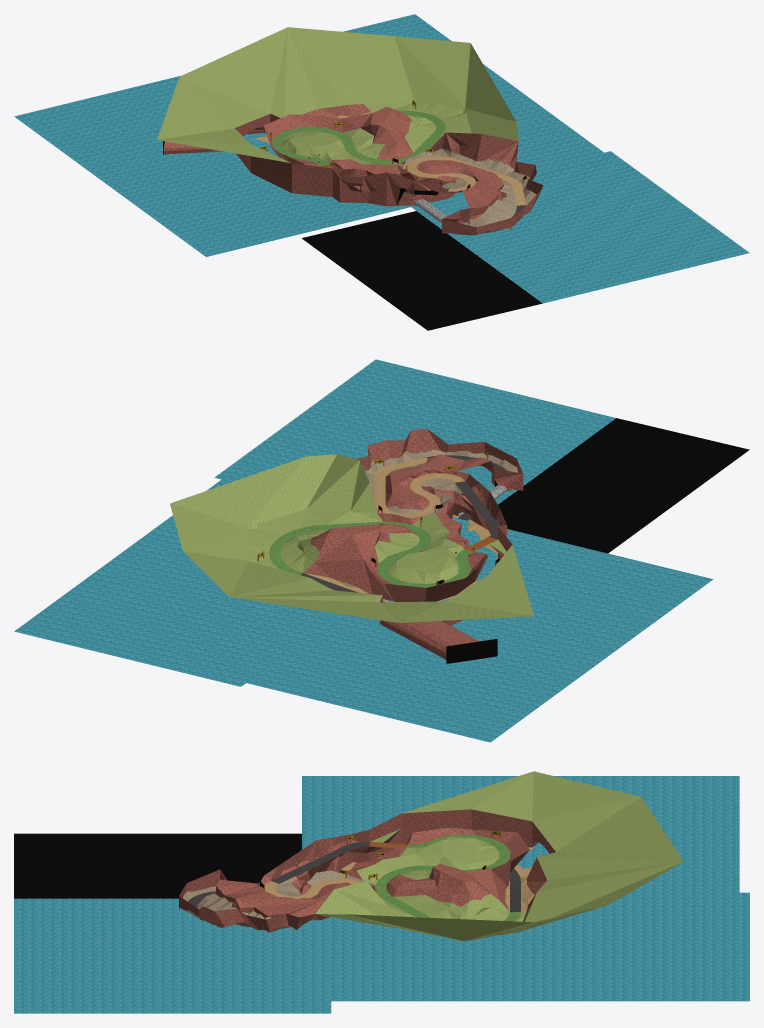
3 views of the same model, one above another, from view 1: azimuth 30°, elevation 25°; view 2: azimuth 150°, elevation 25°; view 3: azimuth 270°, elevation 25° (orthographic). The views are drawn at different scales.
Visible parts, largest first — view 1: Wheev4-SKP--Water_Pool.001, Wheev4-SKP--Vegetation_Grass1.001, Wheev4-SKP--Groundcover_Brick_Crushed.001, Wheev4-SKP--Default_Material.001, Wheev4-SKP--Groundcover_Gravel_1inch.001, Wheev4-SKP--Vegetation_Grass_Artificial.001, Wheev4-SKP--Groundcover_Sand_Smooth.001; view 2: Wheev4-SKP--Water_Pool.001, Wheev4-SKP--Vegetation_Grass1.001, Wheev4-SKP--Default_Material.001, Wheev4-SKP--Groundcover_Brick_Crushed.001, Wheev4-SKP--Vegetation_Grass_Artificial.001, Wheev4-SKP--Groundcover_Sand_Smooth.001, Wheev4-SKP--Groundcover_Gravel_1inch.001, Wheev4-SKP--Asphalt_New.001; view 3: Wheev4-SKP--Water_Pool.001, Wheev4-SKP--Vegetation_Grass1.001, Wheev4-SKP--Groundcover_Brick_Crushed.001, Wheev4-SKP--Default_Material.001, Wheev4-SKP--Vegetation_Grass_Artificial.001, Wheev4-SKP--Groundcover_Gravel_1inch.001, Wheev4-SKP--Asphalt_New.001, Wheev4-SKP--Groundcover_Sand_Smooth.001.
Part boxes in pixels (x1,y1,x2,y2): Wheev4-SKP--Water_Pool.001: (14, 14, 749, 303); Wheev4-SKP--Vegetation_Grass1.001: (157, 27, 518, 165); Wheev4-SKP--Groundcover_Brick_Crushed.001: (163, 104, 543, 235); Wheev4-SKP--Default_Material.001: (163, 141, 542, 330); Wheev4-SKP--Groundcover_Gravel_1inch.001: (402, 148, 536, 234); Wheev4-SKP--Vegetation_Grass_Artificial.001: (272, 110, 445, 165); Wheev4-SKP--Groundcover_Sand_Smooth.001: (252, 112, 525, 205); Wheev4-SKP--Water_Pool.001: (14, 359, 712, 742); Wheev4-SKP--Vegetation_Grass1.001: (170, 454, 533, 622); Wheev4-SKP--Default_Material.001: (446, 418, 749, 663); Wheev4-SKP--Groundcover_Brick_Crushed.001: (303, 428, 523, 659); Wheev4-SKP--Vegetation_Grass_Artificial.001: (269, 521, 472, 587); Wheev4-SKP--Groundcover_Sand_Smooth.001: (304, 457, 497, 602); Wheev4-SKP--Groundcover_Gravel_1inch.001: (365, 449, 522, 518); Wheev4-SKP--Asphalt_New.001: (300, 455, 506, 602); Wheev4-SKP--Water_Pool.001: (14, 776, 749, 1013); Wheev4-SKP--Vegetation_Grass1.001: (315, 771, 683, 941); Wheev4-SKP--Groundcover_Brick_Crushed.001: (179, 809, 555, 932); Wheev4-SKP--Default_Material.001: (14, 833, 301, 898); Wheev4-SKP--Vegetation_Grass_Artificial.001: (375, 834, 520, 921); Wheev4-SKP--Groundcover_Gravel_1inch.001: (183, 870, 377, 931); Wheev4-SKP--Asphalt_New.001: (188, 842, 520, 911); Wheev4-SKP--Groundcover_Sand_Smooth.001: (265, 846, 534, 914).
Size of the model in its own units: 109529 by 13896 by 146955.
61 materials, 61 textured.
